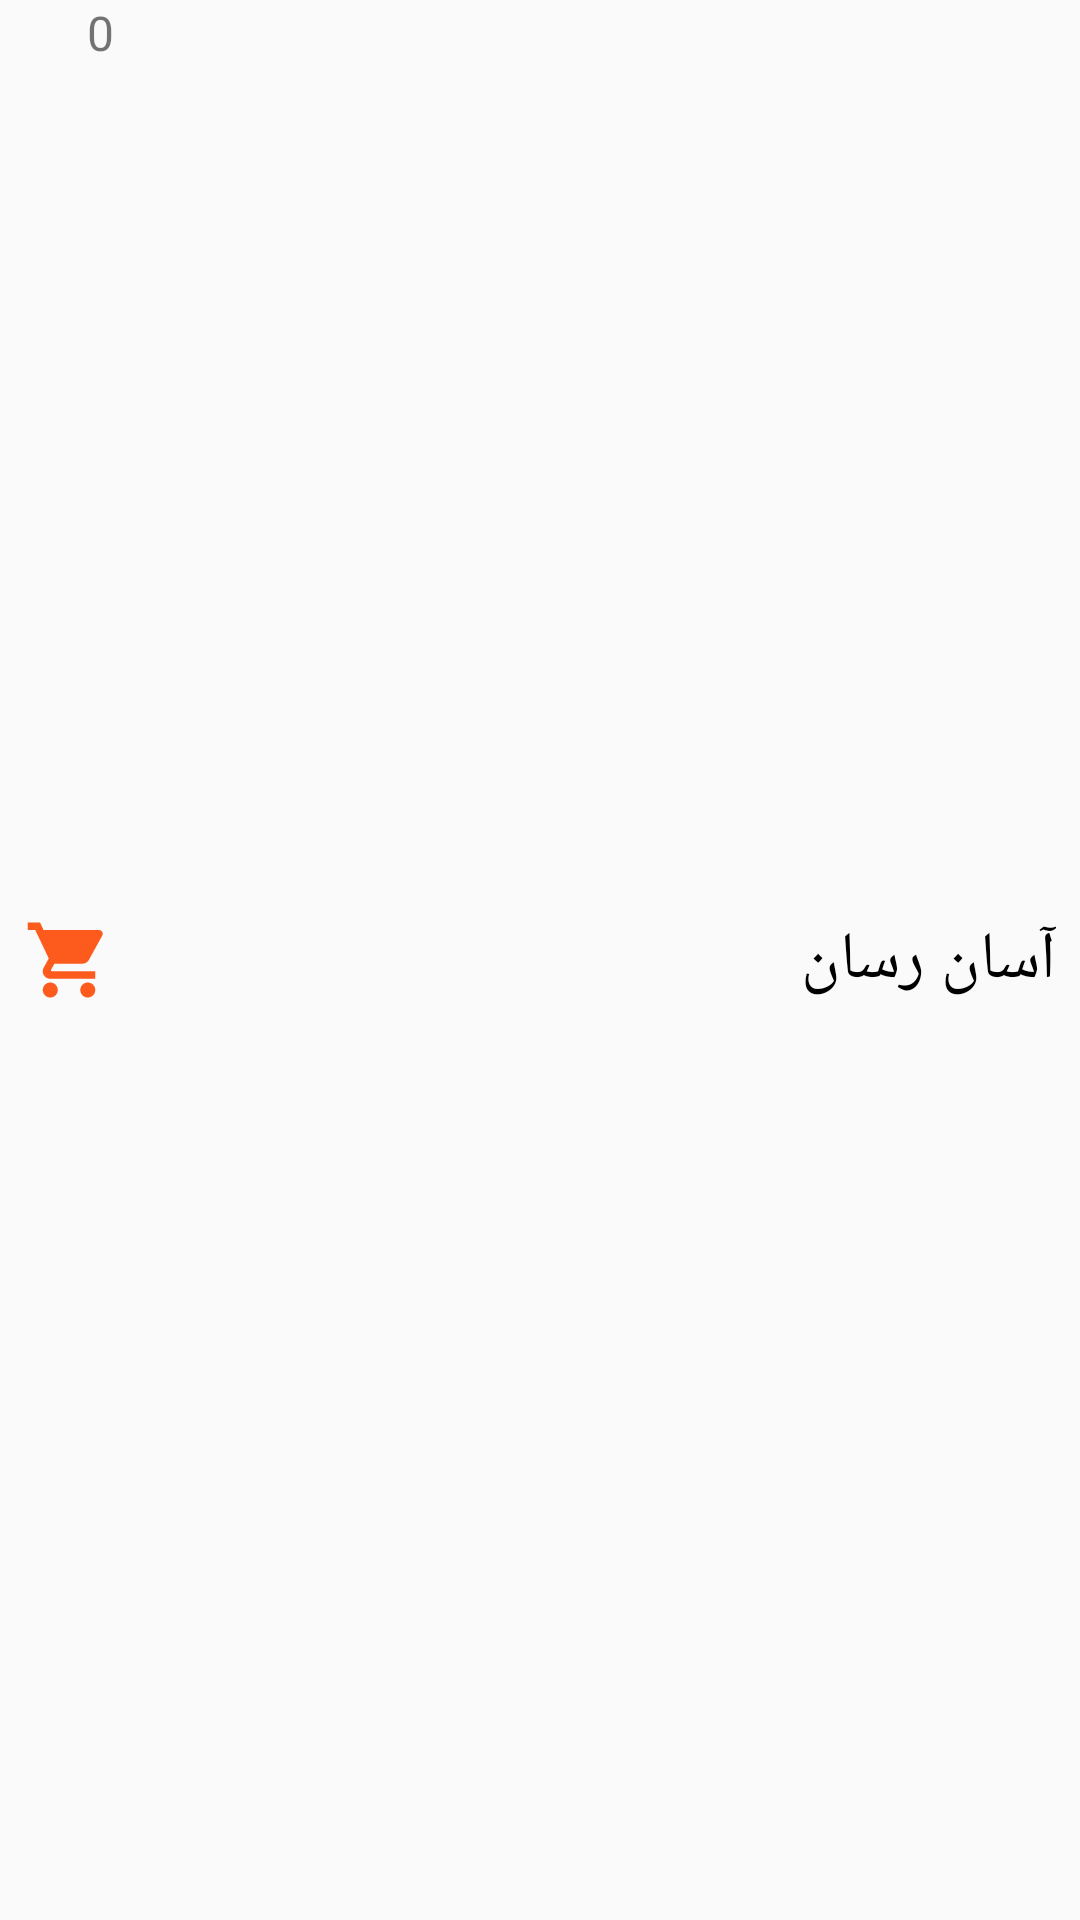

Locate icon controls on the screen. Image size 1080 x 1920, boxes as (x1, y1, x2, y2).
shopping: (27, 922, 103, 998)
